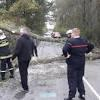Downstairs: (9, 52, 100, 71), (1, 24, 67, 43)
